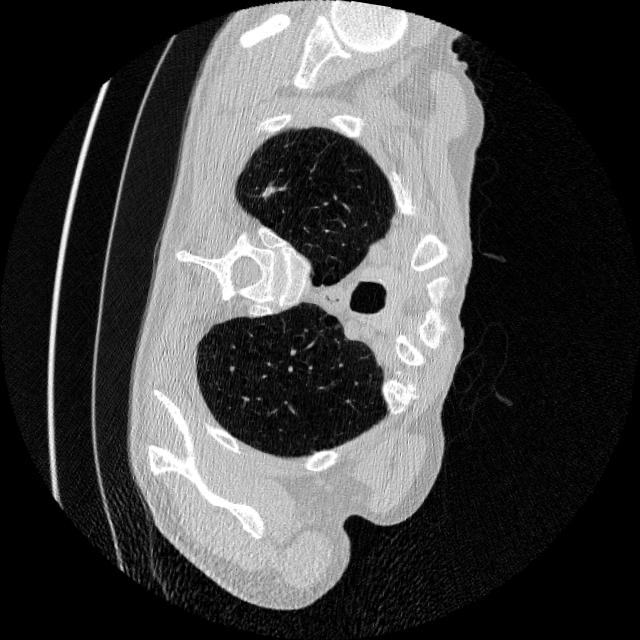nodule: (254, 173, 286, 206)
